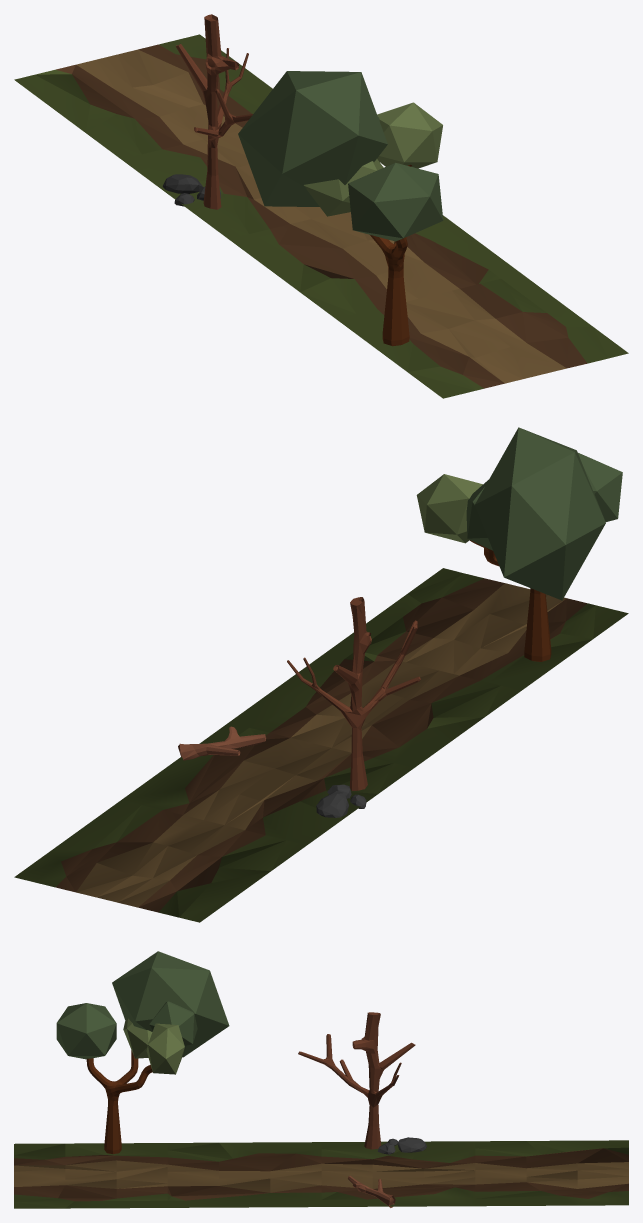
3 views of the same model, one above another, from view 1: azimuth 30°, elevation 25°; view 2: azimuth 150°, elevation 25°; view 3: azimuth 270°, elevation 25° (orthographic). The views are drawn at different scales.
Visible parts, largest first — view 1: stump.010; view 2: stump.010; view 3: stump.010.
Boxes of the visible parts, x1=… form: stump.010: x1=14, y1=14, x2=628, y2=398; stump.010: x1=14, y1=427, x2=628, y2=922; stump.010: x1=14, y1=951, x2=628, y2=1208.
Bounding box in the file's own units: 2.8 × 8 × 2.63.
